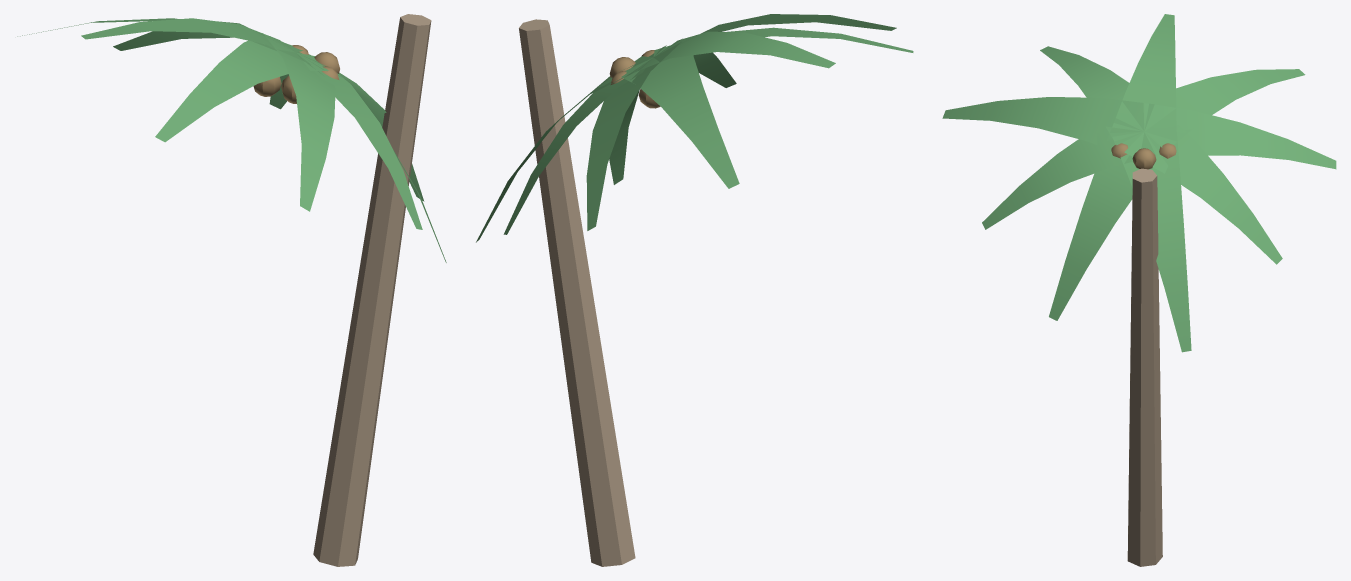
The model's file is palm_coconut_b.glb.
The picture shows the model from 3 angles, left to right: view 1: azimuth 30°, elevation 25°; view 2: azimuth 150°, elevation 25°; view 3: azimuth 270°, elevation 25°; orthographic projection. The views are drawn at different scales.
Visible parts, largest first — view 1: BLD_palm_coconut_b; view 2: BLD_palm_coconut_b; view 3: BLD_palm_coconut_b.
Boxes of the visible parts, x1,y1,x2,y2 form: BLD_palm_coconut_b: (17, 14, 446, 566); BLD_palm_coconut_b: (476, 14, 913, 566); BLD_palm_coconut_b: (942, 14, 1336, 566).
Bounding box in the file's own units: 4.22 × 6.52 × 5.13.
